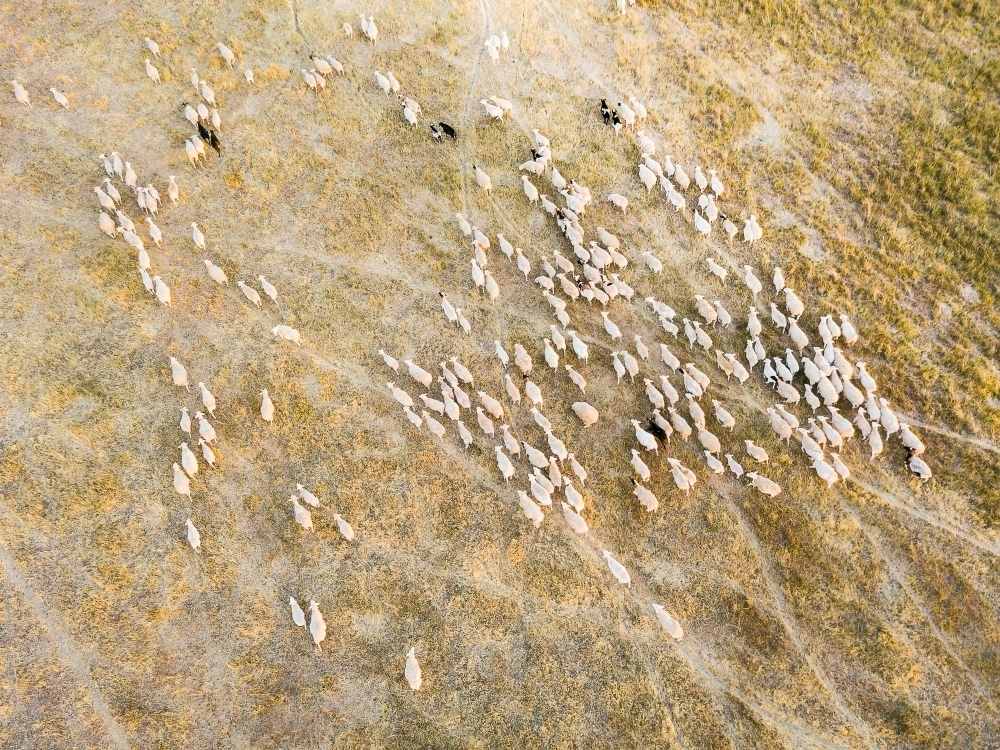sheep: (651, 601, 684, 641), (629, 416, 660, 456), (629, 476, 658, 515), (601, 548, 630, 587), (809, 450, 838, 488), (903, 444, 932, 482), (404, 357, 435, 392), (827, 404, 855, 442), (746, 469, 781, 499), (305, 601, 326, 649), (898, 423, 927, 457), (694, 422, 723, 456), (518, 489, 543, 528), (527, 472, 554, 508), (787, 316, 810, 358), (771, 375, 802, 406), (765, 406, 790, 444), (818, 415, 844, 451), (877, 396, 900, 436), (560, 502, 587, 536), (402, 646, 423, 689), (474, 388, 504, 418), (519, 439, 549, 469), (288, 493, 311, 532), (798, 427, 825, 460), (196, 381, 222, 415), (665, 460, 690, 495), (562, 473, 585, 511), (521, 374, 545, 410), (568, 400, 599, 427), (840, 373, 863, 409), (645, 296, 675, 323), (203, 257, 229, 288), (271, 322, 303, 347), (726, 354, 751, 386), (194, 411, 218, 444), (421, 407, 445, 440), (774, 402, 802, 430), (684, 393, 707, 427), (694, 294, 719, 325), (560, 189, 585, 220), (856, 360, 878, 395), (667, 407, 691, 439), (495, 443, 514, 483), (685, 362, 713, 389), (679, 367, 704, 397), (546, 428, 568, 462), (438, 290, 460, 324), (511, 342, 535, 373), (599, 310, 623, 341), (611, 272, 635, 303), (643, 377, 664, 412), (386, 380, 413, 407), (471, 163, 493, 196), (448, 357, 473, 386), (555, 271, 580, 300), (177, 442, 198, 476), (712, 400, 735, 431), (579, 256, 602, 287), (118, 224, 144, 251), (868, 422, 886, 461), (629, 448, 649, 483), (568, 328, 588, 363), (564, 363, 588, 392), (783, 288, 804, 321), (839, 315, 861, 346), (636, 163, 658, 194), (743, 264, 763, 298), (236, 280, 262, 306), (296, 480, 321, 507), (744, 438, 769, 465), (706, 255, 729, 284), (831, 449, 850, 484), (168, 357, 190, 387), (694, 321, 714, 354), (563, 218, 585, 248), (332, 511, 353, 542), (184, 519, 203, 553), (287, 595, 306, 629), (714, 347, 733, 381), (529, 405, 552, 433), (469, 224, 492, 252), (171, 463, 191, 495), (257, 275, 278, 305), (542, 339, 560, 374), (258, 389, 277, 422), (479, 98, 504, 123), (94, 208, 116, 236), (442, 388, 460, 422), (665, 184, 686, 213), (517, 158, 546, 179), (773, 356, 794, 385), (144, 215, 163, 247), (196, 436, 215, 468), (452, 419, 472, 449), (660, 342, 680, 372), (501, 422, 519, 455), (514, 249, 532, 282), (617, 101, 636, 132), (534, 465, 555, 493), (591, 240, 612, 268), (568, 454, 588, 483), (709, 167, 726, 201), (7, 82, 29, 108), (421, 393, 447, 415), (573, 275, 594, 302), (660, 375, 678, 406), (769, 303, 788, 332), (713, 300, 732, 329), (702, 450, 724, 475), (476, 407, 493, 439), (504, 372, 521, 404), (153, 276, 171, 306), (721, 214, 740, 242), (635, 131, 654, 159), (597, 227, 620, 250), (640, 250, 662, 274), (493, 339, 510, 370), (307, 54, 332, 75), (553, 250, 574, 275), (216, 40, 234, 69), (495, 232, 513, 261), (692, 208, 711, 235), (548, 165, 567, 192), (621, 351, 638, 381), (742, 339, 759, 369), (522, 175, 539, 205), (543, 290, 566, 312), (640, 154, 662, 177), (164, 176, 182, 204), (608, 192, 629, 216), (109, 151, 125, 182), (143, 186, 158, 219), (628, 96, 647, 122), (746, 306, 763, 335), (324, 54, 346, 76), (485, 271, 500, 303), (470, 258, 485, 290), (181, 140, 198, 168), (549, 324, 566, 352), (610, 352, 627, 380), (539, 192, 558, 217), (143, 59, 161, 85), (599, 275, 617, 301), (138, 268, 154, 297), (49, 86, 70, 108), (440, 362, 460, 385), (134, 245, 151, 272), (673, 163, 690, 190), (371, 70, 390, 94), (118, 209, 136, 234), (572, 240, 590, 265), (124, 160, 138, 192), (632, 332, 649, 358), (456, 309, 473, 335), (378, 350, 399, 371), (93, 187, 113, 209), (531, 127, 551, 149), (145, 184, 164, 207), (489, 96, 512, 115), (401, 100, 417, 127), (182, 102, 199, 127), (199, 81, 216, 106), (191, 222, 206, 250), (533, 273, 554, 293), (387, 68, 402, 96), (402, 405, 421, 427), (190, 133, 206, 159), (725, 453, 743, 476), (694, 166, 708, 194), (301, 67, 318, 90), (762, 357, 777, 383), (144, 36, 161, 58), (194, 100, 210, 123), (742, 218, 754, 246), (178, 407, 191, 432), (457, 213, 470, 238), (661, 154, 675, 177), (684, 318, 695, 347), (367, 16, 378, 44), (309, 69, 325, 88), (100, 153, 113, 176), (188, 68, 201, 91), (134, 186, 146, 209), (210, 107, 221, 129), (340, 21, 354, 38), (359, 13, 369, 34), (244, 69, 254, 84)
